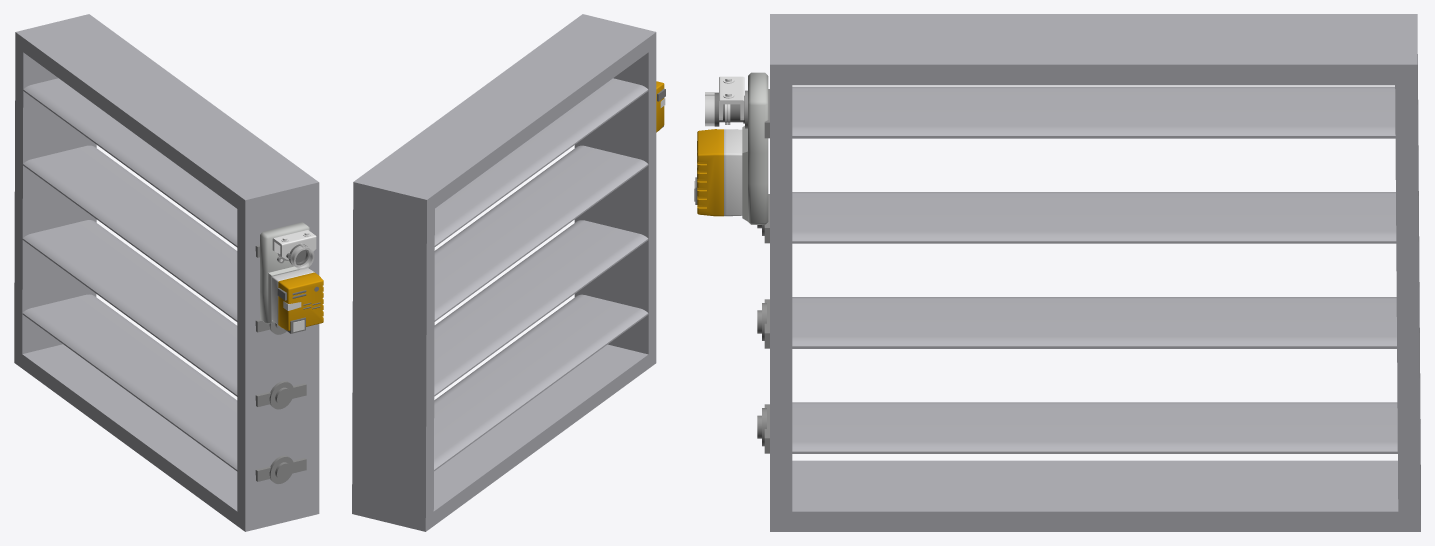
File: DAMPER2.glb
3 renders of one model, left to right at view 1: azimuth 30°, elevation 25°; view 2: azimuth 150°, elevation 25°; view 3: azimuth 270°, elevation 25°, orthographic. The views are drawn at different scales.
Visible parts, largest first — view 1: DAMPER-BODY2, DAMPER LEAF-4, DAMPER LEAF-3, DAMPER LEAF-2, DAMPER LEAF-1, ACTUATOR2; view 2: DAMPER-BODY2, DAMPER LEAF-3, DAMPER LEAF-2, DAMPER LEAF-4, DAMPER LEAF-1, ACTUATOR2; view 3: DAMPER-BODY2, DAMPER LEAF-1, DAMPER LEAF-4, DAMPER LEAF-3, DAMPER LEAF-2, ACTUATOR2.
Boxes of the visible parts, box(x1,y1,x2,y2) form: DAMPER-BODY2: box(14, 14, 319, 531); DAMPER LEAF-4: box(22, 294, 306, 483); DAMPER LEAF-3: box(22, 220, 306, 409); DAMPER LEAF-2: box(23, 145, 286, 334); DAMPER LEAF-1: box(23, 78, 259, 257); ACTUATOR2: box(260, 222, 323, 333); DAMPER-BODY2: box(352, 14, 656, 531); DAMPER LEAF-3: box(434, 220, 648, 396); DAMPER LEAF-2: box(434, 145, 648, 321); DAMPER LEAF-4: box(434, 294, 648, 471); DAMPER LEAF-1: box(434, 78, 648, 246); ACTUATOR2: box(656, 81, 665, 132); DAMPER-BODY2: box(770, 14, 1420, 531); DAMPER LEAF-1: box(764, 86, 1395, 138); DAMPER LEAF-4: box(757, 402, 1397, 453); DAMPER LEAF-3: box(757, 297, 1396, 348); DAMPER LEAF-2: box(757, 192, 1396, 243); ACTUATOR2: box(694, 72, 768, 224).
Bounding box in the file's own units: 0.2211 × 0.9487 × 1.34.
